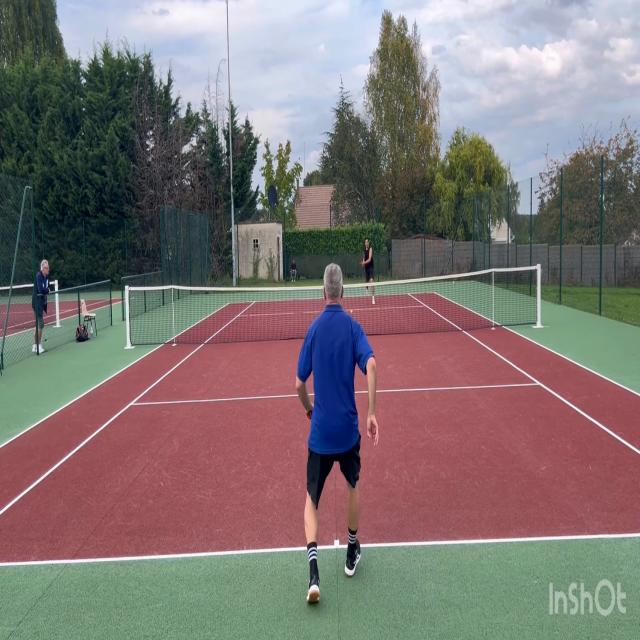ball: (350, 308, 353, 314), (452, 281, 454, 284)
